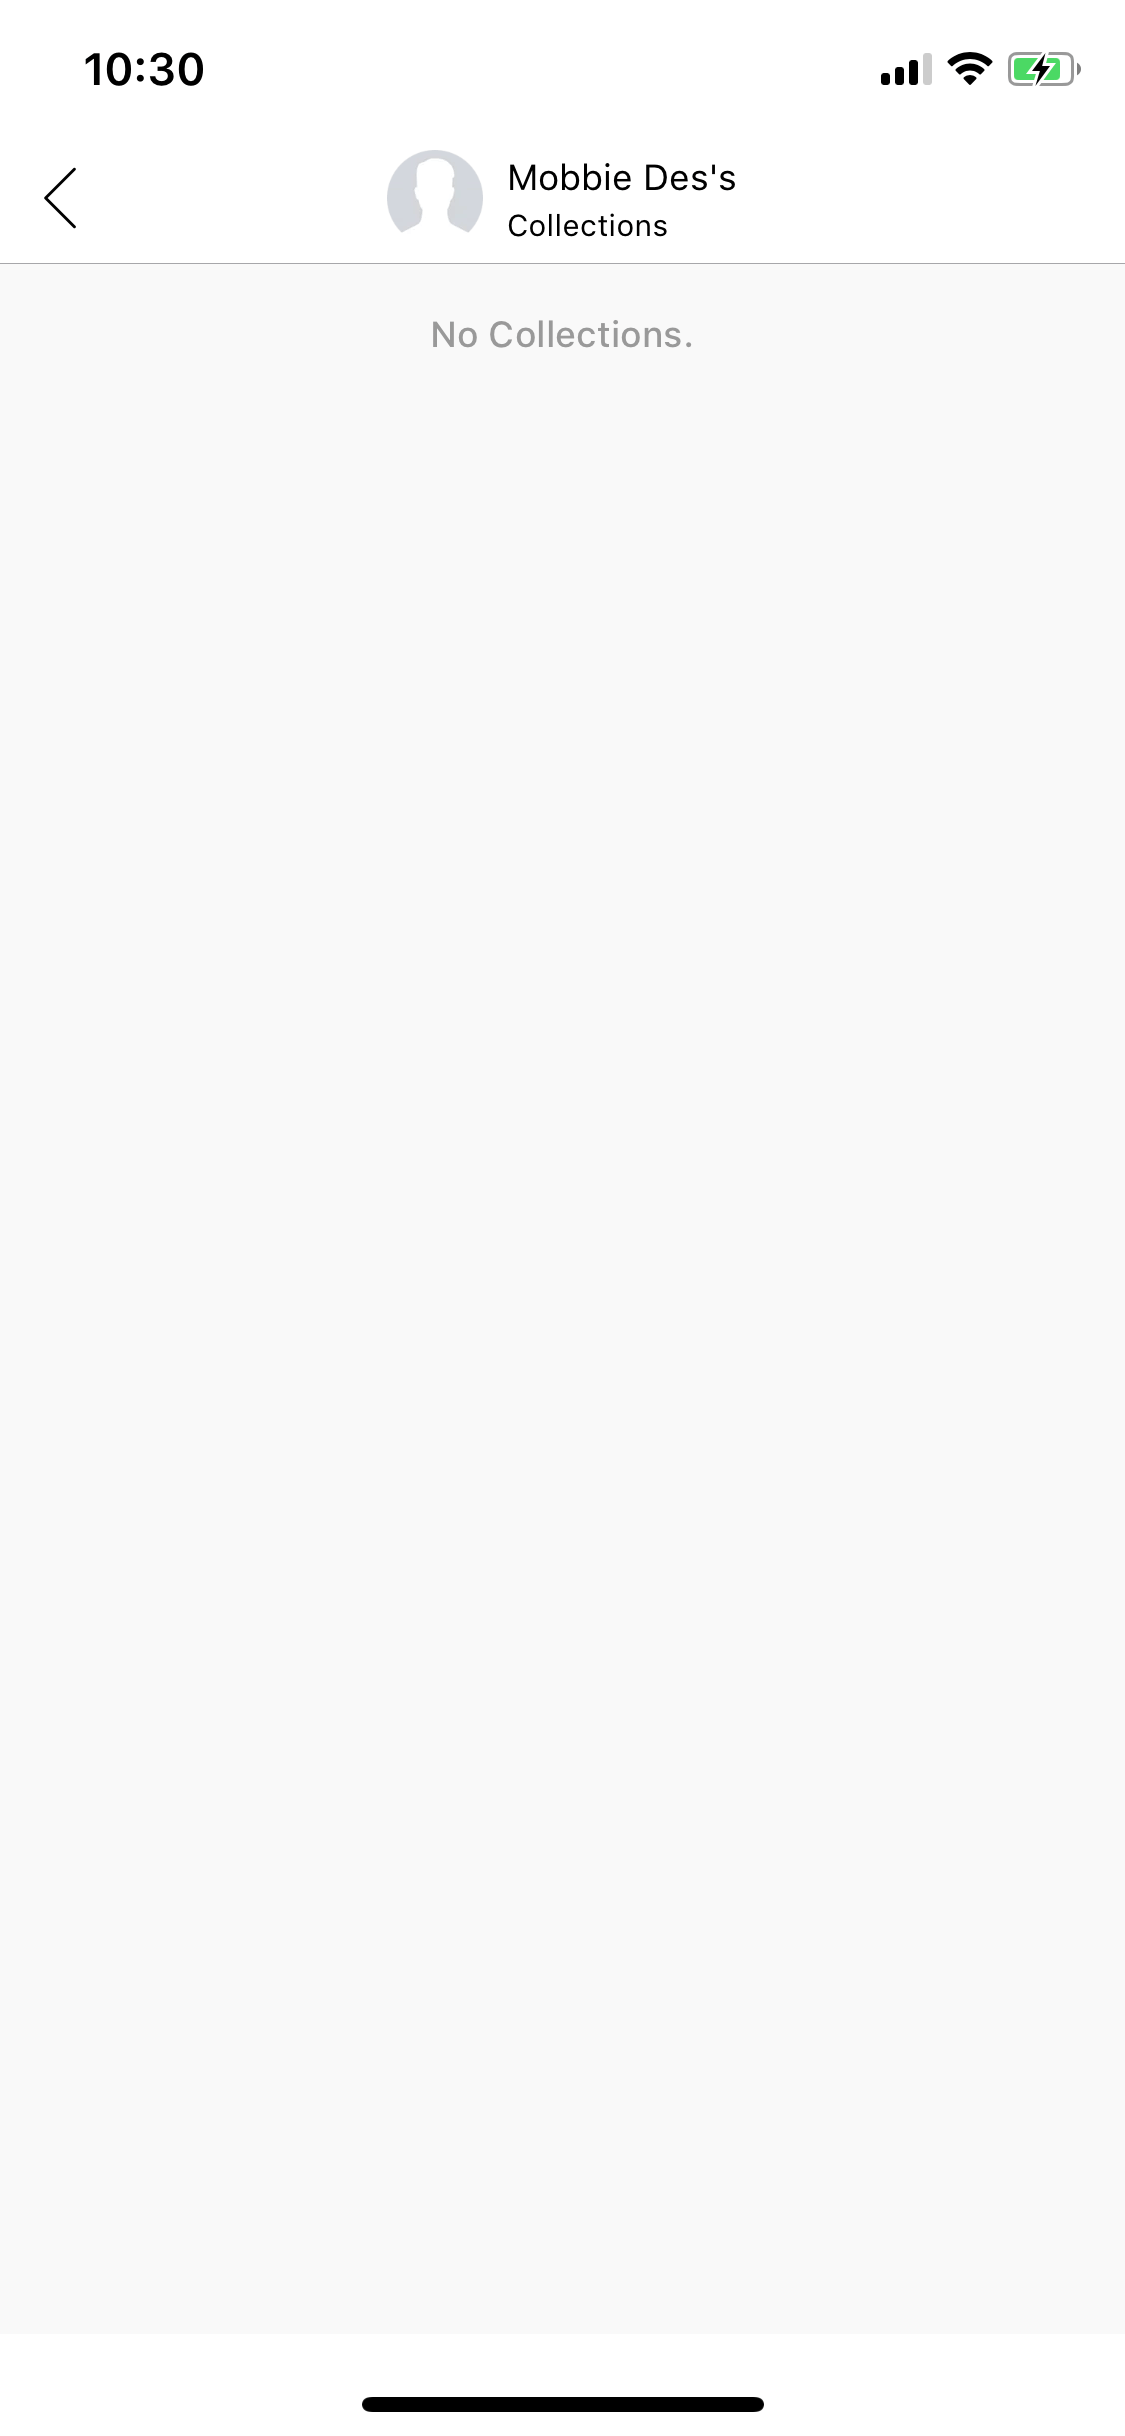Buttons: (14, 124, 134, 249)
